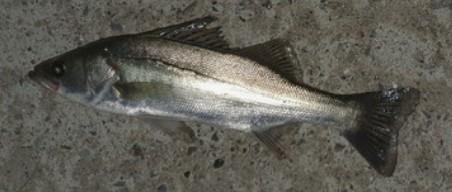fish: (20, 17, 418, 174)
